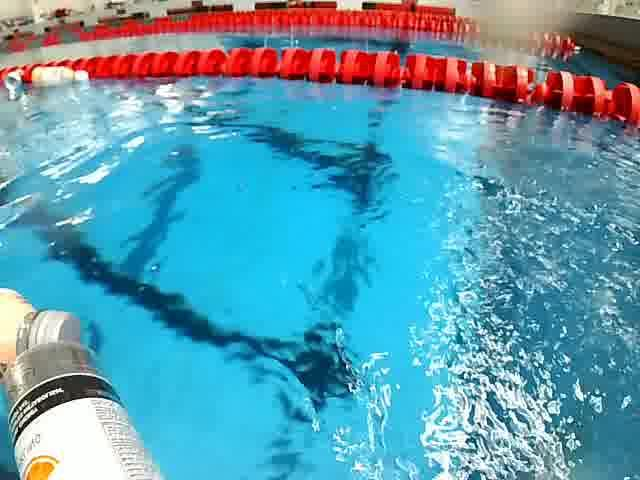Bottle: (0, 280, 92, 364), (29, 66, 94, 92)
Can: (1, 336, 180, 480), (3, 64, 30, 96)
